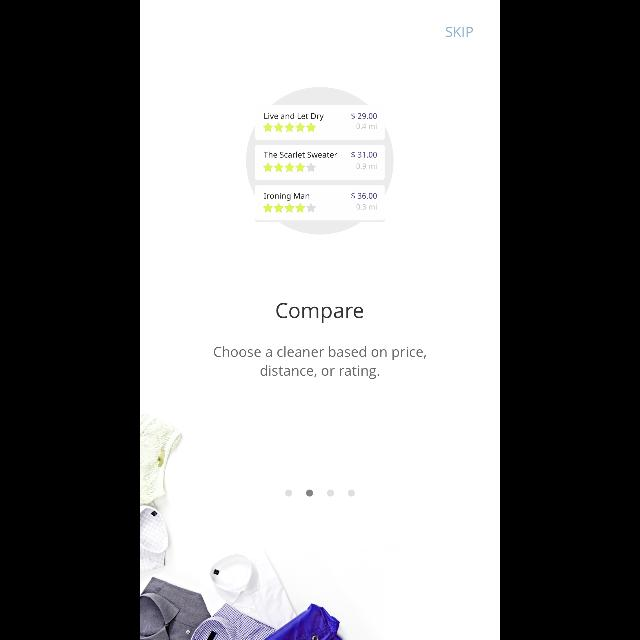image: (140, 412, 342, 640), (246, 87, 394, 235)
pageindicator: (286, 489, 354, 496)
text: (214, 346, 426, 379), (276, 303, 364, 323), (446, 27, 472, 37)
